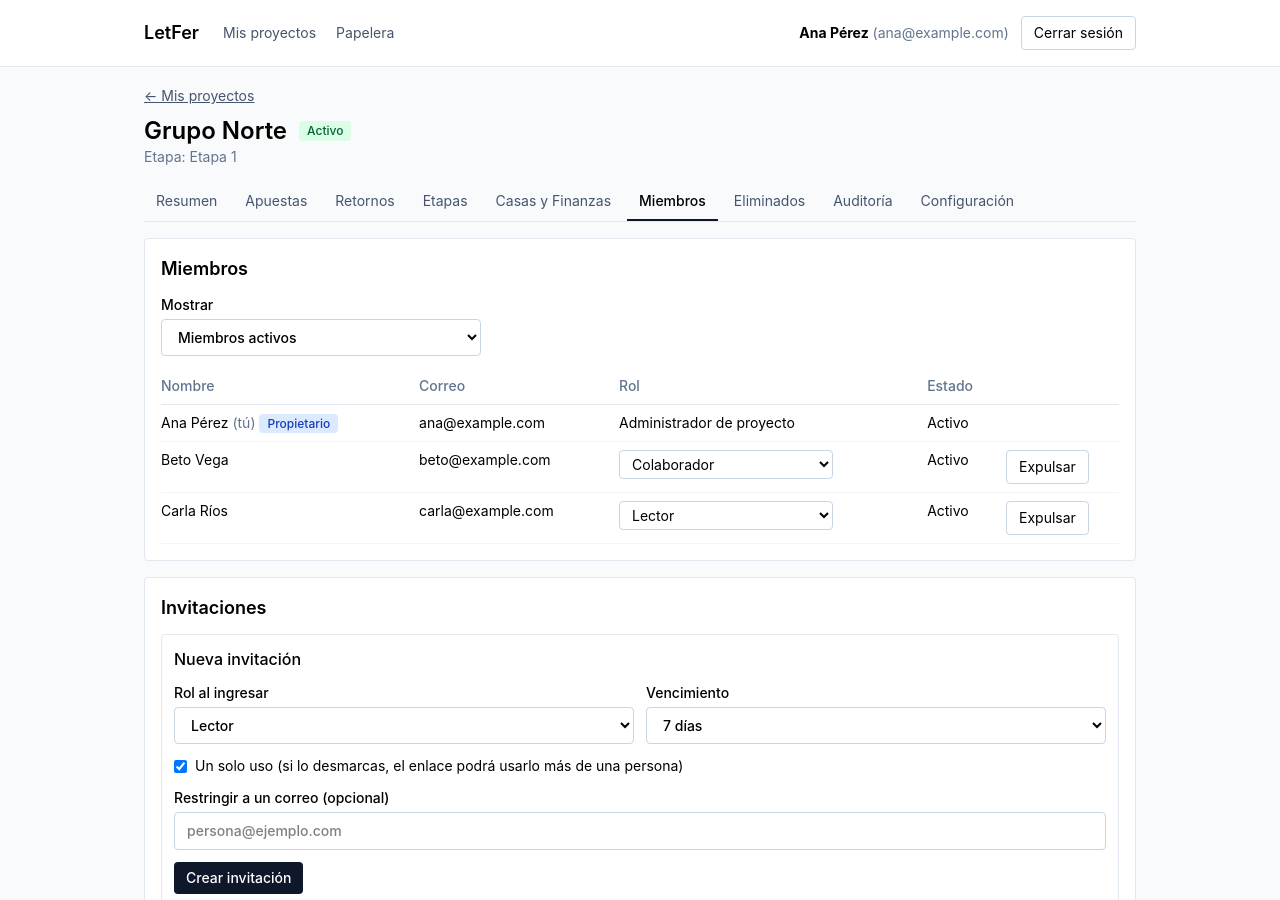
Scenario: invitaciones › crear › usa por defecto Lector, 7 días y un solo uso, y muestra el enlace una sola vez
Expected: the dropdown labelled "Rol al ingresar" shows "Lector", [174, 707, 634, 744]
Expected: the dropdown labelled "Vencimiento" shows "7 días", [646, 707, 1106, 744]
Click the button "Crear invitación": (239, 878) [174, 862, 304, 894]
(page scrolled)
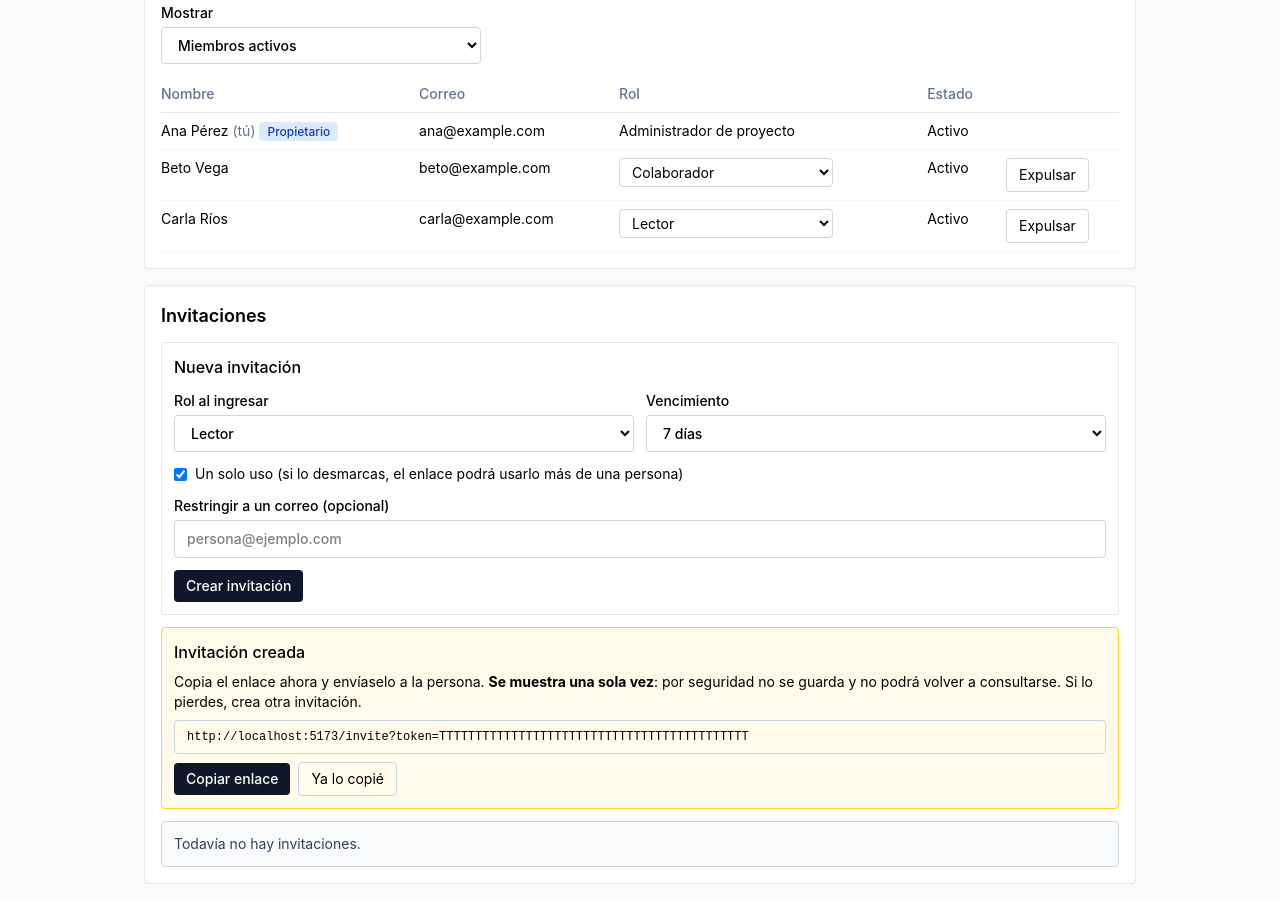
Expected: the text "Se muestra una sola vez" is shown, [489, 673, 654, 690]
Al cerrarlo el enlace desaparece y no hay forma de recuperarlo.
Click the button "Ya lo copié": (348, 779) [298, 762, 397, 796]
(page scrolled)
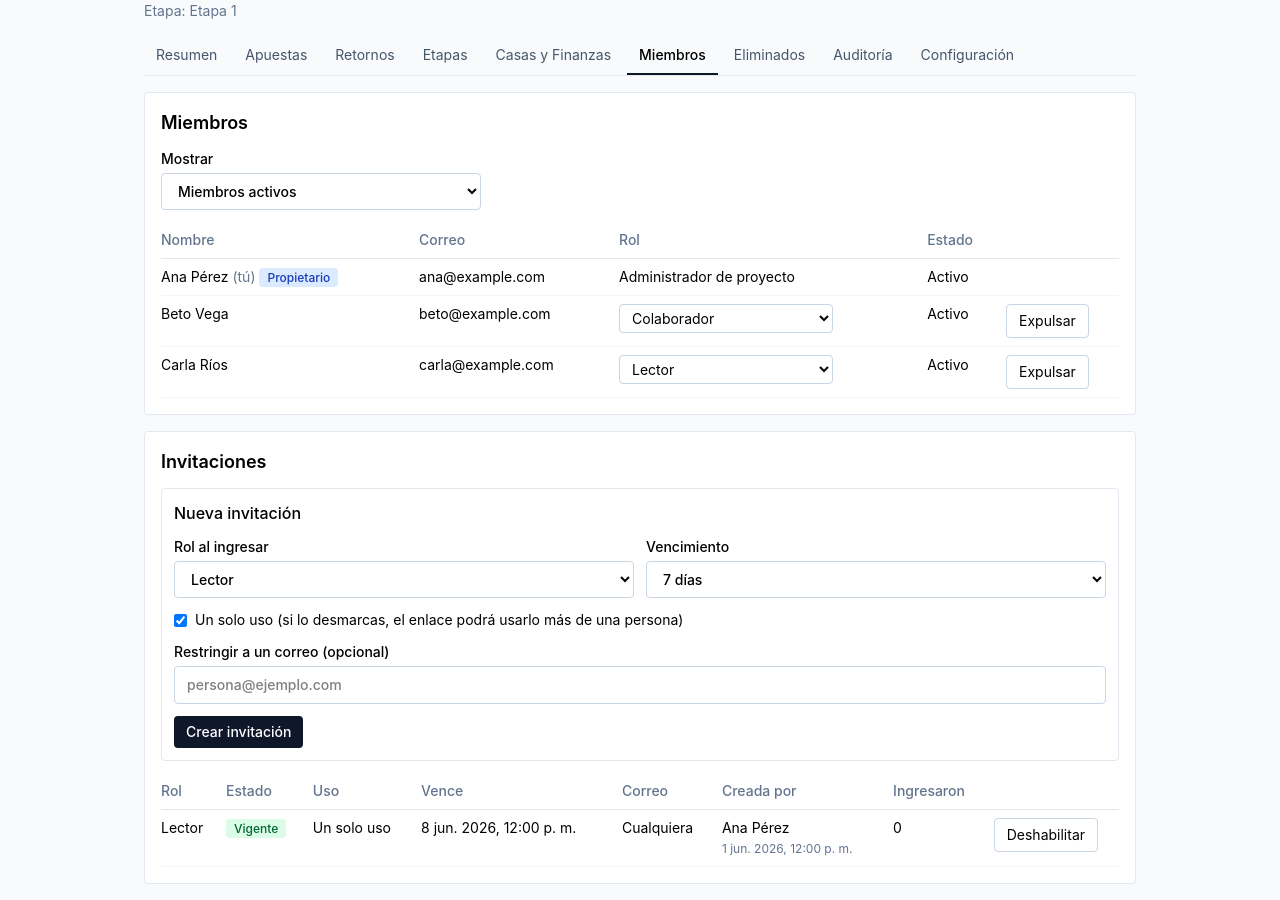
Expected: the table named "Invitaciones" is shown, [161, 773, 1119, 867]
